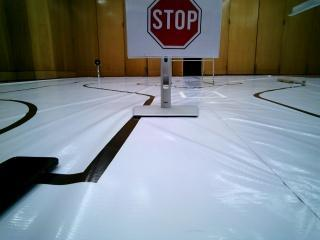stop: (129, 1, 217, 58)
